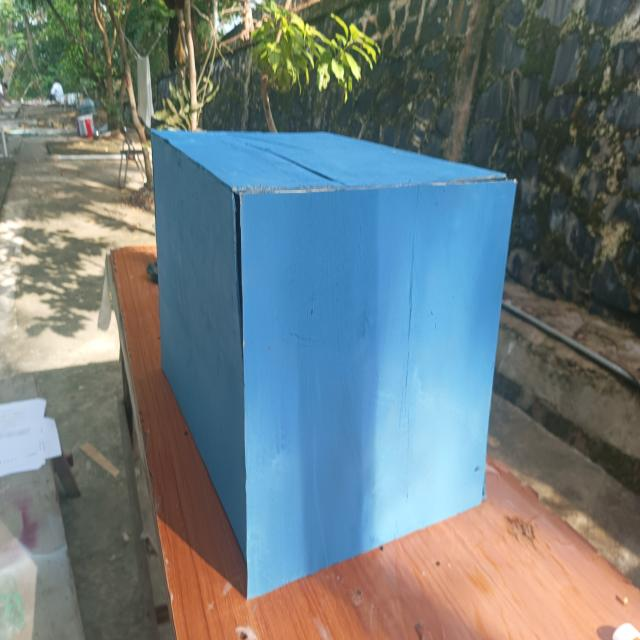blue_box: (144, 78, 540, 600)
